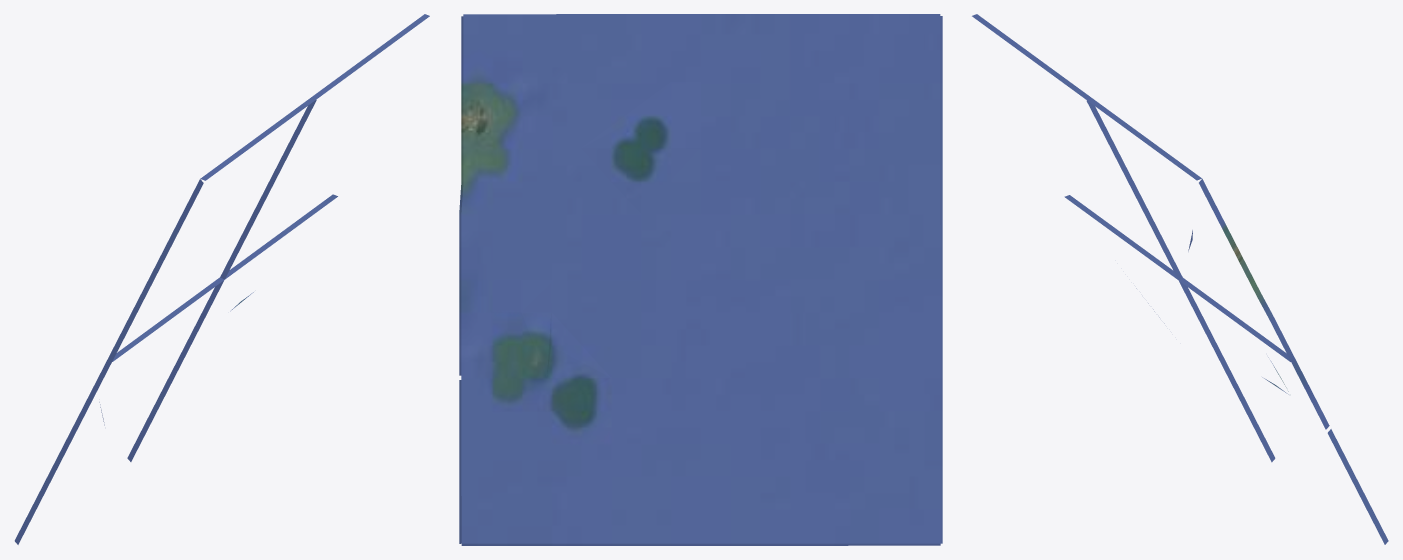
The picture shows the model from 3 angles, left to right: view 1: azimuth 30°, elevation 25°; view 2: azimuth 150°, elevation 25°; view 3: azimuth 270°, elevation 25°; orthographic projection. The views are drawn at different scales.
Size of the model in its own units: 39470 by 35725 by 32876.
1 material, 1 textured.
